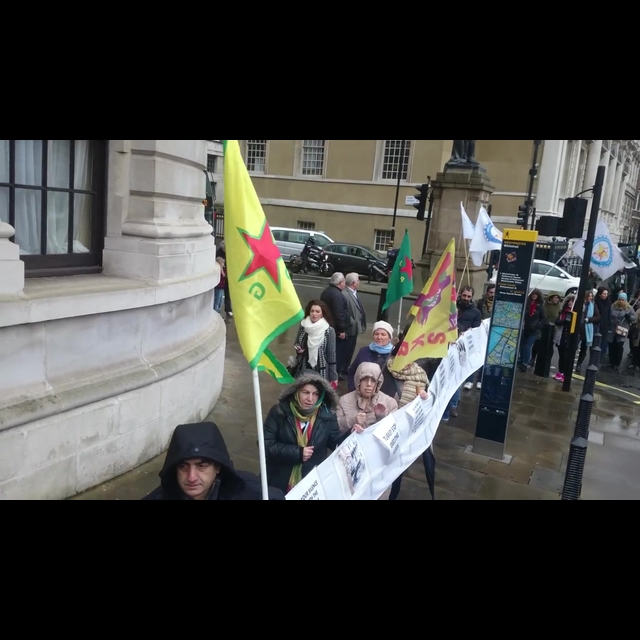YPG: (231, 203, 294, 311)
